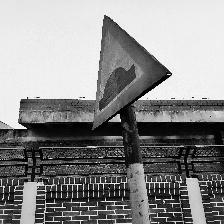Speed-breaker: (91, 15, 172, 130)
